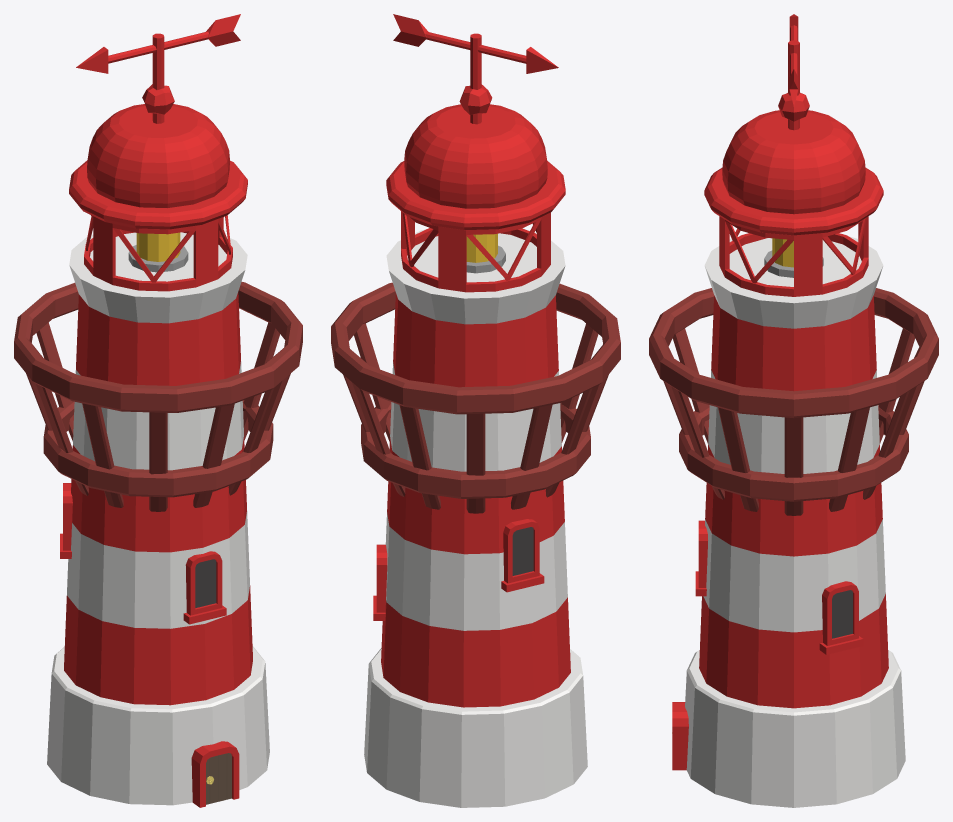
Rendered from Isl_7_Lighthouse.fbx.
3 renders of one model, left to right at view 1: azimuth 30°, elevation 25°; view 2: azimuth 150°, elevation 25°; view 3: azimuth 270°, elevation 25°, orthographic.
Parts seen in each view (by area): view 1: Isl_7_Lighthouse; view 2: Isl_7_Lighthouse; view 3: Isl_7_Lighthouse.
Boxes of the visible parts, x1,y1,x2,y2 form: Isl_7_Lighthouse: [14, 14, 302, 807]; Isl_7_Lighthouse: [331, 14, 620, 807]; Isl_7_Lighthouse: [649, 14, 938, 807].
Bounding box in the file's own units: 1152 × 1152 × 3159.
Materials: 1 (1 with a texture image).
